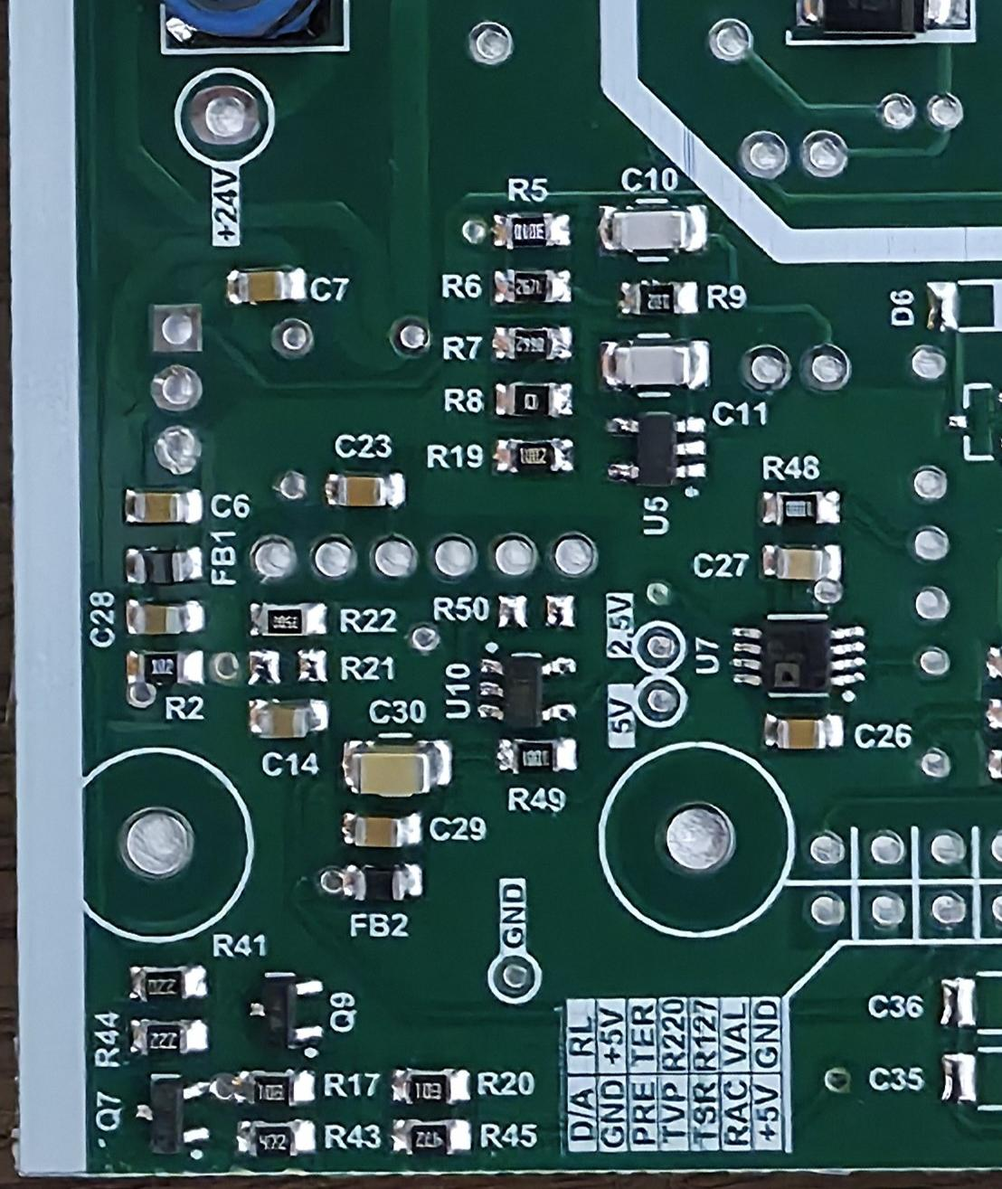C+: (338, 729, 459, 805), (599, 197, 716, 272), (597, 329, 713, 402), (317, 462, 416, 512), (114, 480, 207, 529), (239, 696, 338, 742), (221, 260, 317, 306), (761, 709, 846, 758), (760, 537, 843, 582), (120, 597, 205, 639), (338, 815, 423, 852)
R+: (226, 1057, 324, 1111), (384, 1116, 473, 1169), (488, 374, 574, 426), (392, 1059, 478, 1111), (610, 275, 700, 324), (244, 597, 333, 646), (491, 260, 574, 312), (125, 961, 213, 1010), (758, 480, 844, 530), (490, 320, 576, 369), (120, 646, 211, 691), (226, 1117, 317, 1161), (127, 1015, 213, 1061), (491, 737, 579, 781), (486, 431, 571, 475), (490, 210, 579, 252)
R/CFaltante: (490, 584, 578, 636), (241, 642, 333, 688)
U+: (724, 615, 869, 709), (470, 642, 581, 732), (602, 410, 713, 499)
